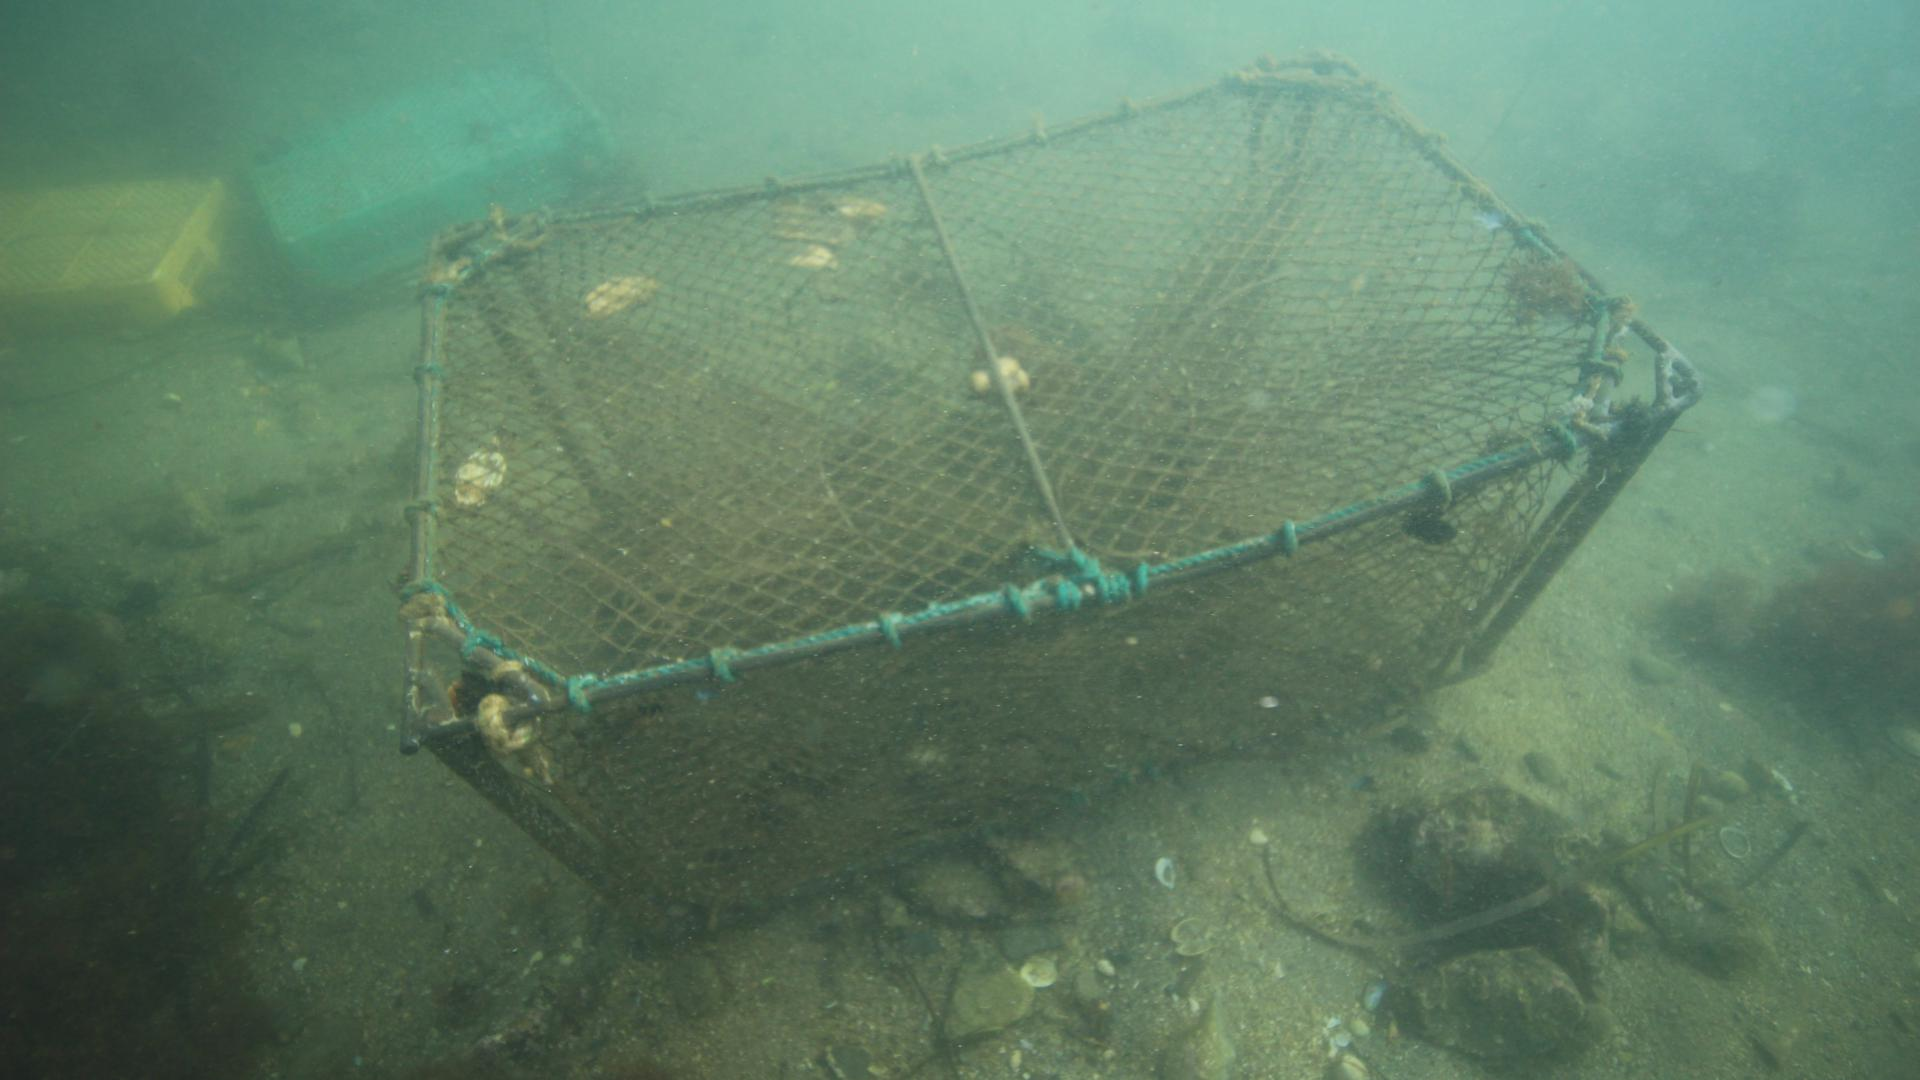rectangular fish trap: (394, 47, 1706, 945)
